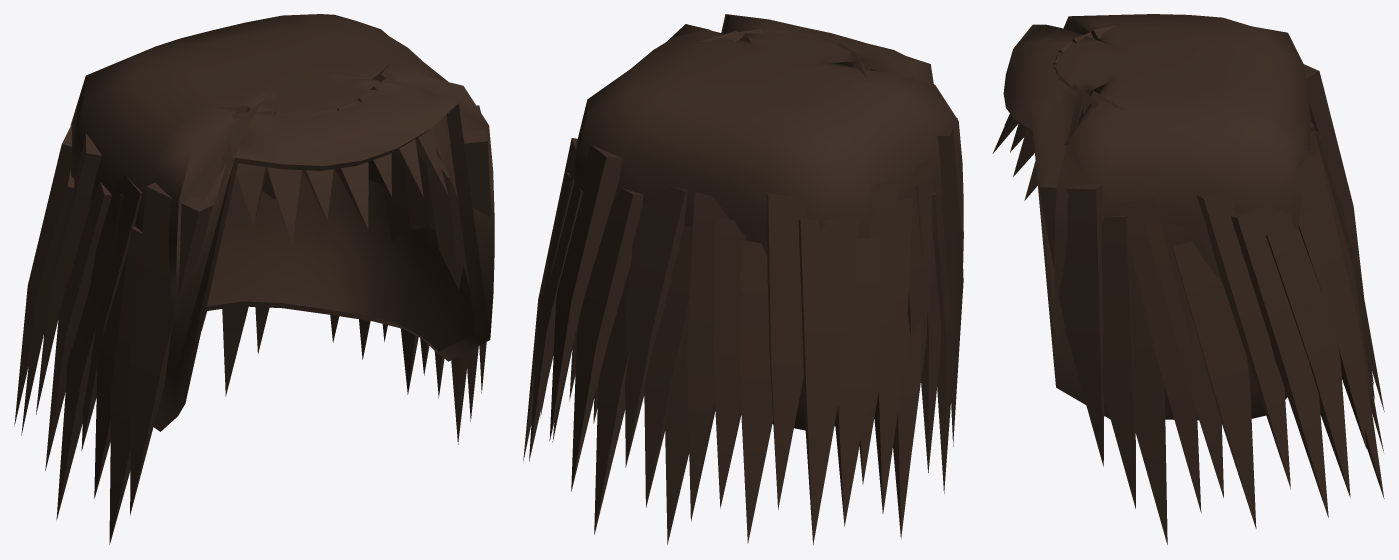
The model's file is Cuerpo_Pelo_Melena.fbx.
3 renders of one model, left to right at view 1: azimuth 30°, elevation 25°; view 2: azimuth 150°, elevation 25°; view 3: azimuth 270°, elevation 25°, orthographic. The views are drawn at different scales.
Parts seen in each view (by area): view 1: Cuerpo_Pelo_Melena; view 2: Cuerpo_Pelo_Melena; view 3: Cuerpo_Pelo_Melena.
Part boxes in pixels (x1=…): Cuerpo_Pelo_Melena: x1=14, y1=14, x2=494, y2=544; Cuerpo_Pelo_Melena: x1=523, y1=14, x2=963, y2=545; Cuerpo_Pelo_Melena: x1=992, y1=14, x2=1384, y2=544.
Bounding box in the file's own units: 1.48 × 1.69 × 1.45.
